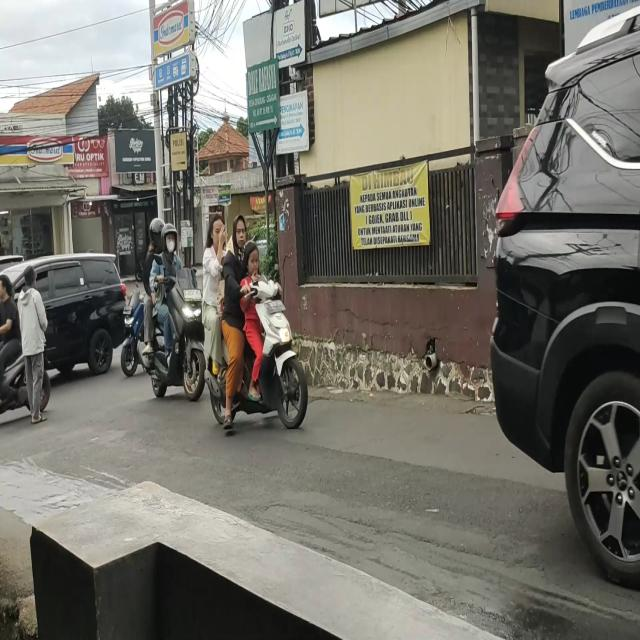helmet: (161, 221, 176, 258), (150, 220, 164, 250)
no-helmet: (208, 216, 226, 255), (232, 215, 248, 257), (246, 242, 261, 276), (0, 272, 11, 306)
